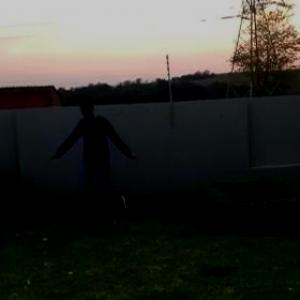land: (53, 110, 136, 228)
